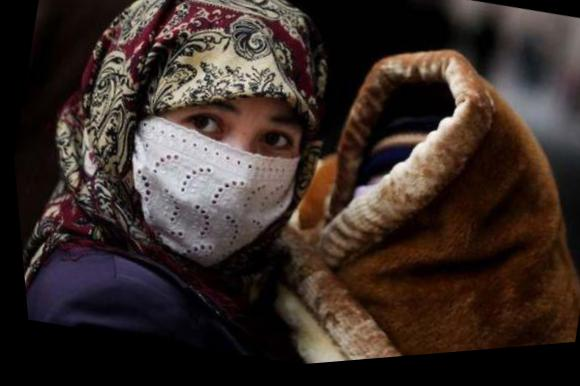WRONG: (130, 70, 323, 286)
